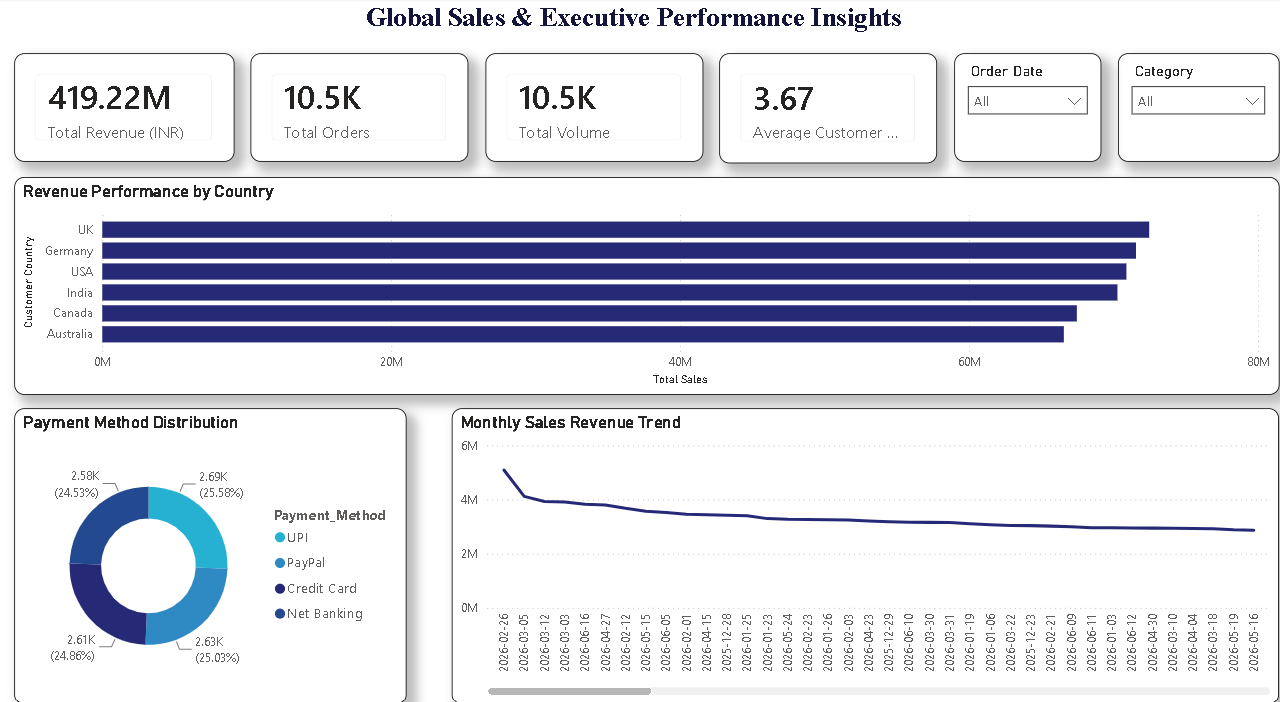

The page's visual inventory and layout, read from the dashboard file:
{"tool":"powerbi","page":{"name":"Page 1","canvas":[1280,720],"ordinal":0},"visuals":[{"type":"cardVisual","fields":{"Data":["Sum(df.Total_Sales_INR)"]},"box":[21.1,56,218.9,108.2],"z":0},{"type":"cardVisual","fields":{"Data":["CountNonNull(df.Quantity)"]},"box":[489.9,56,216.4,108.2],"z":1000},{"type":"cardVisual","fields":{"Data":["Count(df.Order_ID)"]},"box":[256.8,56,216.4,108.2],"z":2000},{"type":"cardVisual","fields":{"Data":["Avg(df.Product_Rating)"]},"box":[723,56,216.4,109.5],"z":3000},{"type":"clusteredBarChart","title":"Revenue Performance by Country","fields":{"Category":["df.Customer_Country"],"Y":["Sum(df.Total_Sales_INR)"]},"box":[21.1,179.1,1258.9,216.4],"z":4000},{"type":"donutChart","title":"Payment Method Distribution","fields":{"Category":["df.Payment_Method"],"Y":["Count(df.Order_ID)"]},"box":[21.1,409.3,390.6,294.8],"z":5000},{"type":"lineChart","title":"Monthly Sales Revenue Trend","fields":{"Category":["df.Order_Date"],"Y":["Sum(df.Total_Sales_INR)"]},"box":[456.5,409.3,823.5,294.8],"z":6000},{"type":"textbox","box":[21.1,0,1232.8,46],"z":7000},{"type":"slicer","fields":{"Values":["df.Category"]},"box":[1119.5,56,160.5,108.2],"z":8000},{"type":"slicer","fields":{"Values":["df.Order_Date"]},"box":[956.1,56,146.8,108.2],"z":8001}]}

Visuals, with their boxes in screenshot pixels (x1, y1, x2, y2), scaled from the page's 1280x720 canvas onto the 1280x702 screenshot:
cardVisual - Sum(df.Total_Sales_INR): 21:55:240:160
cardVisual - CountNonNull(df.Quantity): 490:55:706:160
cardVisual - Count(df.Order_ID): 257:55:473:160
cardVisual - Avg(df.Product_Rating): 723:55:939:161
"Revenue Performance by Country" clusteredBarChart: 21:175:1279:386
"Payment Method Distribution" donutChart: 21:399:412:686
"Monthly Sales Revenue Trend" lineChart: 456:399:1279:686
textbox: 21:0:1254:45
slicer - df.Category: 1120:55:1279:160
slicer - df.Order_Date: 956:55:1103:160
